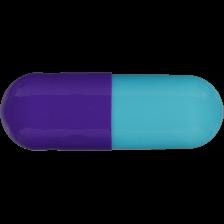16714-391: (0, 0, 224, 224)
